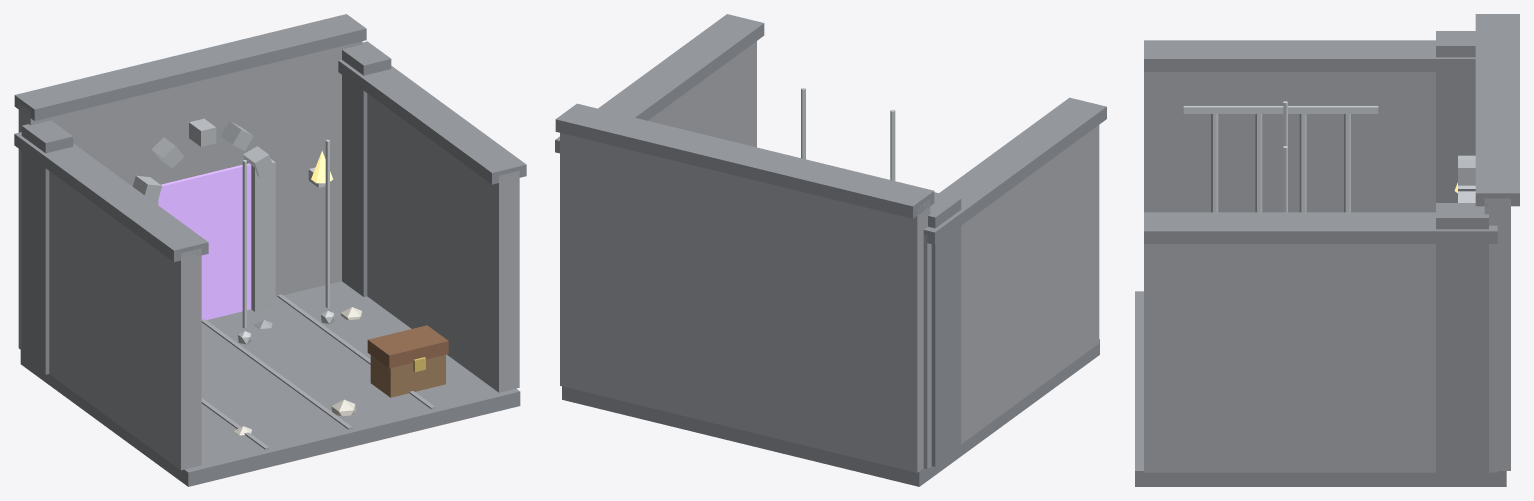
Rendered from dungeon_room.glb.
3 renders of one model, left to right at view 1: azimuth 30°, elevation 25°; view 2: azimuth 150°, elevation 25°; view 3: azimuth 270°, elevation 25°, orthographic. The views are drawn at different scales.
Parts seen in each view (by area): view 1: floor, side_wall, back_wall, side_wall.001, cornice_back, dark_void, buttress, cornice_side, cornice_side.001, buttress.001, arch_pier.001, chest_lid (+9 smaller); view 2: back_wall, side_wall, cornice_back, buttress, cornice_side, floor, cornice_side.001, side_wall.001; view 3: side_wall.001, side_wall, buttress.001, cornice_side.001, cornice_side, cornice_back, floor, buttress, back_wall, bar_top, cell_bar, cell_bar.001 (+3 smaller).
Boxes of the visible parts, left/top/right/bottom form: floor: left=20, top=281, right=520, bottom=486; side_wall: left=21, top=151, right=201, bottom=470; back_wall: left=18, top=41, right=362, bottom=349; side_wall.001: left=367, top=93, right=519, bottom=392; cornice_back: left=14, top=14, right=366, bottom=120; dark_void: left=158, top=163, right=251, bottom=319; buttress: left=21, top=120, right=73, bottom=374; cornice_side: left=14, top=132, right=208, bottom=261; cornice_side.001: left=338, top=59, right=526, bottom=184; buttress.001: left=342, top=41, right=391, bottom=296; arch_pier.001: left=247, top=159, right=275, bottom=311; chest_lid: left=367, top=325, right=448, bottom=368; back_wall: left=560, top=133, right=930, bottom=472; side_wall: left=923, top=125, right=1099, bottom=468; cornice_back: left=555, top=103, right=934, bottom=218; buttress: left=928, top=192, right=961, bottom=466; cornice_side: left=923, top=97, right=1106, bottom=244; floor: left=562, top=339, right=1099, bottom=486; cornice_side.001: left=555, top=14, right=764, bottom=153; side_wall.001: left=648, top=41, right=756, bottom=147; side_wall.001: left=1144, top=244, right=1497, bottom=472; side_wall: left=1144, top=72, right=1435, bottom=212; buttress.001: left=1436, top=203, right=1488, bottom=474; cornice_side.001: left=1144, top=212, right=1497, bottom=243; cornice_side: left=1144, top=40, right=1475, bottom=71; cornice_back: left=1475, top=14, right=1519, bottom=206; floor: left=1135, top=291, right=1506, bottom=486; buttress: left=1436, top=31, right=1475, bottom=202; back_wall: left=1484, top=198, right=1510, bottom=470; bar_top: left=1183, top=106, right=1378, bottom=113; cell_bar: left=1211, top=114, right=1218, bottom=212; cell_bar.001: left=1255, top=114, right=1262, bottom=212.
Size of the model in its own units: 5.1 by 3.66 by 4.35.
